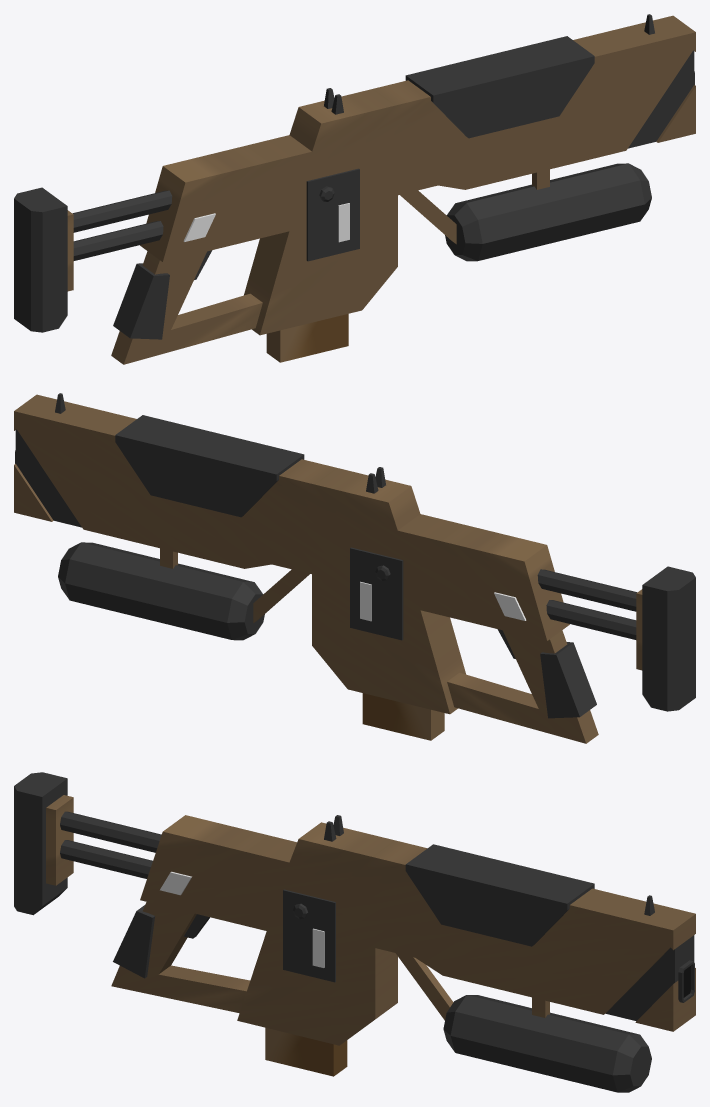
File: Rifle_H_V3.FBX
The picture shows the model from 3 angles, top to bottom: view 1: azimuth 30°, elevation 25°; view 2: azimuth 150°, elevation 25°; view 3: azimuth 330°, elevation 25°; orthographic projection.
Visible parts, largest first — view 1: Rifle_H_V3, Magazine; view 2: Rifle_H_V3, Magazine; view 3: Rifle_H_V3, Magazine.
Part boxes in pixels (bbox=[...]): Rifle_H_V3: bbox=[14, 14, 695, 364]; Magazine: bbox=[266, 314, 348, 362]; Rifle_H_V3: bbox=[14, 393, 695, 743]; Magazine: bbox=[362, 693, 444, 740]; Rifle_H_V3: bbox=[14, 772, 695, 1092]; Magazine: bbox=[265, 1027, 347, 1076].
Size of the model in its own units: 393 by 141 by 32.87.
